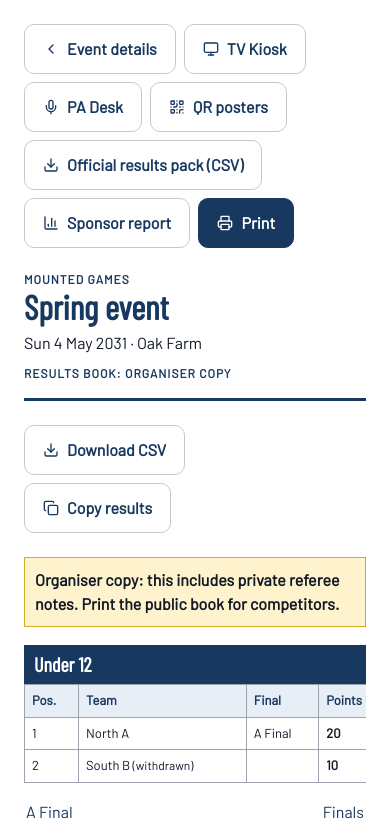
Scenario: ResultsBookTab › Copy results › says so when the public results cannot be fetched
Click the button "Copy results": (98,508) 24,483 -> 171,533
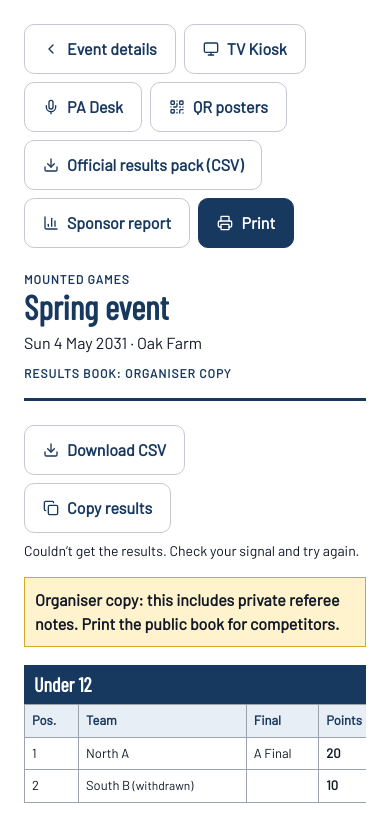
Expected: the text "Couldn’t get the results. Check your signal and try again." is shown, 24,541 -> 366,561
